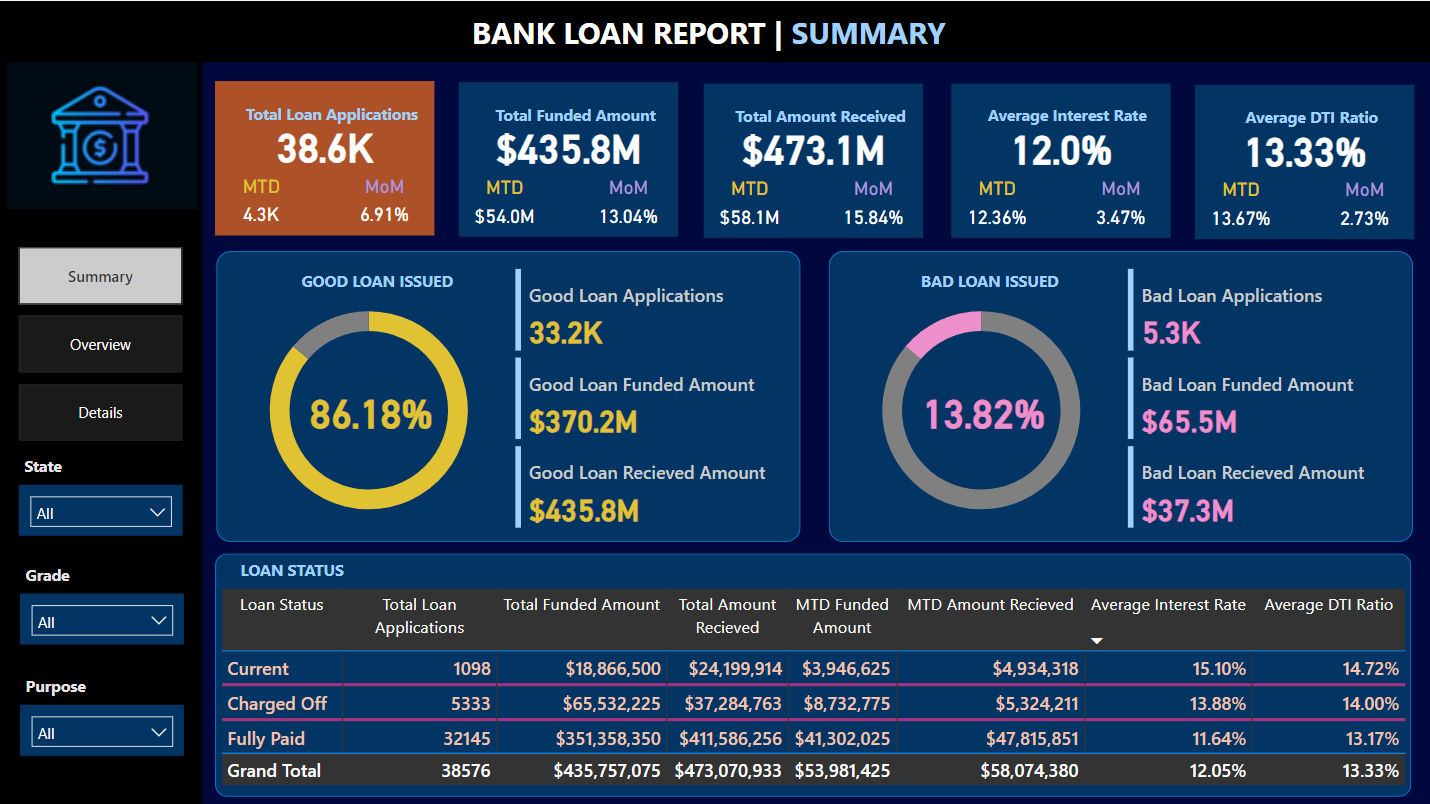

Layout of this report page (visuals, bound fields, positions):
{"tool":"powerbi","page":{"name":"Summary","canvas":[1280,720],"ordinal":0},"visuals":[{"type":"shape","box":[0,54.7,180.9,665.5],"z":0},{"type":"shape","box":[0,0,1280.3,54.9],"z":1000},{"type":"textbox","box":[416,4,448,48],"z":2000},{"type":"group","id":"g1","title":"Group 1","box":[192.1,71.5,196.5,137.3],"z":3000},{"type":"shape","box":[192.1,71.5,196,138],"z":3000,"group":"g1"},{"type":"shape","box":[409.8,72.6,196,138],"z":3000,"group":"g2"},{"type":"shape","box":[628.7,73.7,196,138],"z":3000,"group":"g3"},{"type":"shape","box":[849.8,73.7,196,138],"z":3000,"group":"g4"},{"type":"shape","box":[1067.5,74.8,196,138],"z":3000,"group":"g5"},{"type":"group","id":"g2","title":"Group 1","box":[409.8,72.6,195.4,137.3],"z":4000},{"type":"card","fields":{"Values":["financial_loan.Total Loan Applications"]},"box":[204.1,101.5,172,54],"z":4000,"group":"g1"},{"type":"card","fields":{"Values":["financial_loan.Total Funded Amount"]},"box":[421.8,102.6,172,54],"z":4000,"group":"g2"},{"type":"card","fields":{"Values":["financial_loan.Total Amount Recieved"]},"box":[640.7,103.7,172,54],"z":4000,"group":"g3"},{"type":"card","fields":{"Values":["financial_loan.Average Interest Rate"]},"box":[861.8,103.7,172,54],"z":4000,"group":"g4"},{"type":"card","fields":{"Values":["financial_loan.Average DTI Ratio"]},"box":[1079.5,104.8,172,54],"z":4000,"group":"g5"},{"type":"group","id":"g3","title":"Group 1","box":[628.7,73.7,196.5,136.2],"z":5000},{"type":"textbox","box":[204.1,85.5,184,30],"z":5000,"group":"g1"},{"type":"textbox","box":[421.8,86.6,184,30],"z":5000,"group":"g2"},{"type":"textbox","box":[861.1,87.5,184.9,30.2],"z":5000,"group":"g4"},{"type":"textbox","box":[640.7,87.7,184,30],"z":5000,"group":"g3"},{"type":"textbox","box":[1079.5,88.8,184,30],"z":5000,"group":"g5"},{"type":"group","id":"g4","title":"Group 1","box":[849.8,73.7,195.4,137.3],"z":6000},{"type":"card","title":"MTD","fields":{"Values":["financial_loan.MTD Loan Applications"]},"box":[204.1,155.5,58,54],"z":6000,"group":"g1"},{"type":"card","title":"MTD","fields":{"Values":["financial_loan.MTD Funded Amount"]},"box":[409.8,156.6,82,54],"z":6000,"group":"g2"},{"type":"card","title":"MTD","fields":{"Values":["financial_loan.MTD Amount Recieved"]},"box":[628.7,157.7,82,54],"z":6000,"group":"g3"},{"type":"card","title":"MTD","fields":{"Values":["financial_loan.MTD Average Interest Rate"]},"box":[849.8,157.7,82,54],"z":6000,"group":"g4"},{"type":"card","title":"MTD","fields":{"Values":["financial_loan.MTD Average DTI Ratio"]},"box":[1067.5,158.8,82,54],"z":6000,"group":"g5"},{"type":"group","id":"g5","title":"Group 1","box":[1067.5,74.8,196.5,136.2],"z":7000},{"type":"card","title":"MoM","fields":{"Values":["financial_loan.MoM Loan Applicstion"]},"box":[312.1,155.5,64,54],"z":8000,"group":"g1"},{"type":"card","title":"MoM","fields":{"Values":["financial_loan.MoM Funded Amount"]},"box":[529.8,156.6,64,54],"z":8000,"group":"g2"},{"type":"card","title":"MoM","fields":{"Values":["financial_loan.MoM Amount Recieved"]},"box":[748.7,157.7,64,54],"z":8000,"group":"g3"},{"type":"card","title":"MoM","fields":{"Values":["financial_loan.MoM Average Interest Rate"]},"box":[969.8,157.7,64,54],"z":8000,"group":"g4"},{"type":"card","title":"MoM","fields":{"Values":["financial_loan.MoM Average DTI Ratio"]},"box":[1187.5,158.8,64,54],"z":8000,"group":"g5"},{"type":"shape","box":[740.7,223.3,522,260],"z":8000,"group":"g7"},{"type":"group","id":"g6","title":"Group 2","box":[192.8,223.6,522,260],"z":8000},{"type":"shape","box":[192.8,223.6,522,260],"z":8000,"group":"g6"},{"type":"donutChart","fields":{"Category":["financial_loan.Good v Bad Loans"],"Y":["financial_loan.Total Loan Applications"]},"box":[752.3,250.3,250.6,231.3],"z":9000,"group":"g7"},{"type":"donutChart","fields":{"Category":["financial_loan.Good v Bad Loans"],"Y":["financial_loan.Total Loan Applications"]},"box":[204.4,250.6,250.6,231.3],"z":9000,"group":"g6"},{"type":"shape","box":[192.1,493.5,1068.7,217.3],"z":9000},{"type":"group","id":"g7","title":"Group 2","box":[740.7,223.3,522.1,260.5],"z":10000},{"type":"card","fields":{"Values":["financial_loan.Bad Loan Percentage"]},"box":[780.5,339.2,196.5,53.5],"z":10000,"group":"g7"},{"type":"card","fields":{"Values":["financial_loan.Good Loan Percentage"]},"box":[232.6,339.5,196.5,53.5],"z":10000,"group":"g6"},{"type":"textbox","box":[792.1,235.7,184.9,30.2],"z":11000,"group":"g7"},{"type":"textbox","box":[244.2,236,184.9,30.2],"z":11000,"group":"g6"},{"type":"tableEx","fields":{"Values":["financial_loan.loan_status","financial_loan.Total Loan Applications","financial_loan.Total Funded Amount","financial_loan.Total Amount Recieved","financial_loan.MTD Funded Amount","financial_loan.MTD Amount Recieved","financial_loan.Average Interest Rate","financial_loan.Average DTI Ratio"]},"box":[192.1,519.9,1068.7,190.9],"z":11000},{"type":"cardVisual","fields":{"Data":["financial_loan.Bad Loan Applications","financial_loan.Bad Loan Funded Amount","financial_loan.Bad Loan Recieved Amount"]},"box":[1002.9,234.9,258.3,242.9],"z":12000,"group":"g7"},{"type":"cardVisual","fields":{"Data":["financial_loan.Good Loan Applications","financial_loan.Good Loan Funded Amount","financial_loan.Good Loan Recieved Amount"]},"box":[455,235.2,258.3,242.9],"z":12000,"group":"g6"},{"type":"textbox","box":[16.8,401.1,72,31.2],"z":12000},{"type":"textbox","box":[162.1,493.5,198.1,31.2],"z":13000},{"type":"slicer","fields":{"Values":["financial_loan.address_state"]},"box":[16.8,432.3,146.5,45.6],"z":14000},{"type":"textbox","box":[18.2,498.5,72,31.2],"z":15000},{"type":"slicer","fields":{"Values":["financial_loan.grade"]},"box":[18.2,529.7,146.5,45.6],"z":16000},{"type":"textbox","box":[18.2,597.4,72,31.2],"z":17000},{"type":"slicer","fields":{"Values":["financial_loan.purpose"]},"box":[18.2,628.6,146.5,45.6],"z":18000},{"type":"image","box":[1.1,12.3,180.9,215.5],"z":19000},{"type":"pageNavigator","box":[16.3,219.8,146.5,173.3],"z":20000}]}

Visuals, with their boxes in screenshot pixels (x1, y1, x2, y2), scaled from the page's 1280x720 canvas onto the 1430x804 screenshot:
shape: left=0, top=61, right=202, bottom=803
shape: left=0, top=0, right=1429, bottom=61
textbox: left=465, top=4, right=965, bottom=58
"Group 1" group: left=215, top=80, right=434, bottom=233
shape: left=215, top=80, right=434, bottom=234
shape: left=458, top=81, right=677, bottom=235
shape: left=702, top=82, right=921, bottom=236
shape: left=949, top=82, right=1168, bottom=236
shape: left=1193, top=84, right=1412, bottom=238
"Group 1" group: left=458, top=81, right=676, bottom=234
card - financial_loan.Total Loan Applications: left=228, top=113, right=420, bottom=174
card - financial_loan.Total Funded Amount: left=471, top=115, right=663, bottom=175
card - financial_loan.Total Amount Recieved: left=716, top=116, right=908, bottom=176
card - financial_loan.Average Interest Rate: left=963, top=116, right=1155, bottom=176
card - financial_loan.Average DTI Ratio: left=1206, top=117, right=1398, bottom=177
"Group 1" group: left=702, top=82, right=922, bottom=234
textbox: left=228, top=95, right=434, bottom=129
textbox: left=471, top=97, right=677, bottom=130
textbox: left=962, top=98, right=1169, bottom=131
textbox: left=716, top=98, right=921, bottom=131
textbox: left=1206, top=99, right=1412, bottom=133
"Group 1" group: left=949, top=82, right=1168, bottom=236
"MTD" card: left=228, top=174, right=293, bottom=234
"MTD" card: left=458, top=175, right=549, bottom=235
"MTD" card: left=702, top=176, right=794, bottom=236
"MTD" card: left=949, top=176, right=1041, bottom=236
"MTD" card: left=1193, top=177, right=1284, bottom=238
"Group 1" group: left=1193, top=84, right=1412, bottom=236
"MoM" card: left=349, top=174, right=420, bottom=234
"MoM" card: left=592, top=175, right=663, bottom=235
"MoM" card: left=836, top=176, right=908, bottom=236
"MoM" card: left=1083, top=176, right=1155, bottom=236
"MoM" card: left=1327, top=177, right=1398, bottom=238
shape: left=828, top=249, right=1411, bottom=540
"Group 2" group: left=215, top=250, right=799, bottom=540
shape: left=215, top=250, right=799, bottom=540
donutChart - financial_loan.Good v Bad Loans x financial_loan.Total Loan Applications: left=840, top=280, right=1120, bottom=538
donutChart - financial_loan.Good v Bad Loans x financial_loan.Total Loan Applications: left=228, top=280, right=508, bottom=538
shape: left=215, top=551, right=1409, bottom=794
"Group 2" group: left=828, top=249, right=1411, bottom=540
card - financial_loan.Bad Loan Percentage: left=872, top=379, right=1091, bottom=439
card - financial_loan.Good Loan Percentage: left=260, top=379, right=479, bottom=439
textbox: left=885, top=263, right=1091, bottom=297
textbox: left=273, top=264, right=479, bottom=297
tableEx - financial_loan.loan_status x financial_loan.Total Loan Applications: left=215, top=581, right=1409, bottom=794
cardVisual - financial_loan.Bad Loan Applications x financial_loan.Bad Loan Funded Amount: left=1120, top=262, right=1409, bottom=534
cardVisual - financial_loan.Good Loan Applications x financial_loan.Good Loan Funded Amount: left=508, top=263, right=797, bottom=534
textbox: left=19, top=448, right=99, bottom=483
textbox: left=181, top=551, right=402, bottom=586
slicer - financial_loan.address_state: left=19, top=483, right=182, bottom=534
textbox: left=20, top=557, right=101, bottom=591
slicer - financial_loan.grade: left=20, top=591, right=184, bottom=642
textbox: left=20, top=667, right=101, bottom=702
slicer - financial_loan.purpose: left=20, top=702, right=184, bottom=753
image: left=1, top=14, right=203, bottom=254
pageNavigator: left=18, top=245, right=182, bottom=439
